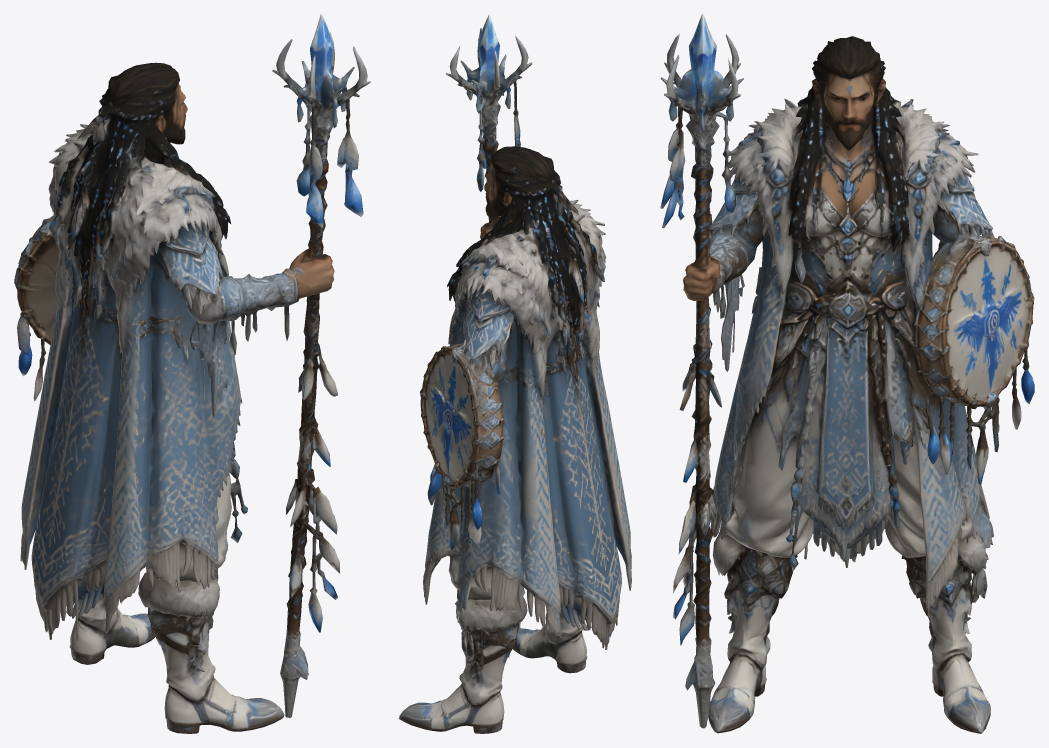
The model's file is drumcalleralt-FrostHunter-tripo.glb.
3 renders of one model, left to right at view 1: azimuth 30°, elevation 25°; view 2: azimuth 150°, elevation 25°; view 3: azimuth 270°, elevation 25°, orthographic. The views are drawn at different scales.
Visible parts, largest first — view 1: tripo_node_8a8b0446-390c-465b-90fc-aa1fea9c3aed; view 2: tripo_node_8a8b0446-390c-465b-90fc-aa1fea9c3aed; view 3: tripo_node_8a8b0446-390c-465b-90fc-aa1fea9c3aed.
Boxes of the visible parts, <box> form: tripo_node_8a8b0446-390c-465b-90fc-aa1fea9c3aed: <box>14,14,370,733</box>; tripo_node_8a8b0446-390c-465b-90fc-aa1fea9c3aed: <box>399,14,631,733</box>; tripo_node_8a8b0446-390c-465b-90fc-aa1fea9c3aed: <box>660,14,1034,733</box>.
Size of the model in its own units: 0.3627 by 1 by 0.4601.
1 material, 1 textured.
